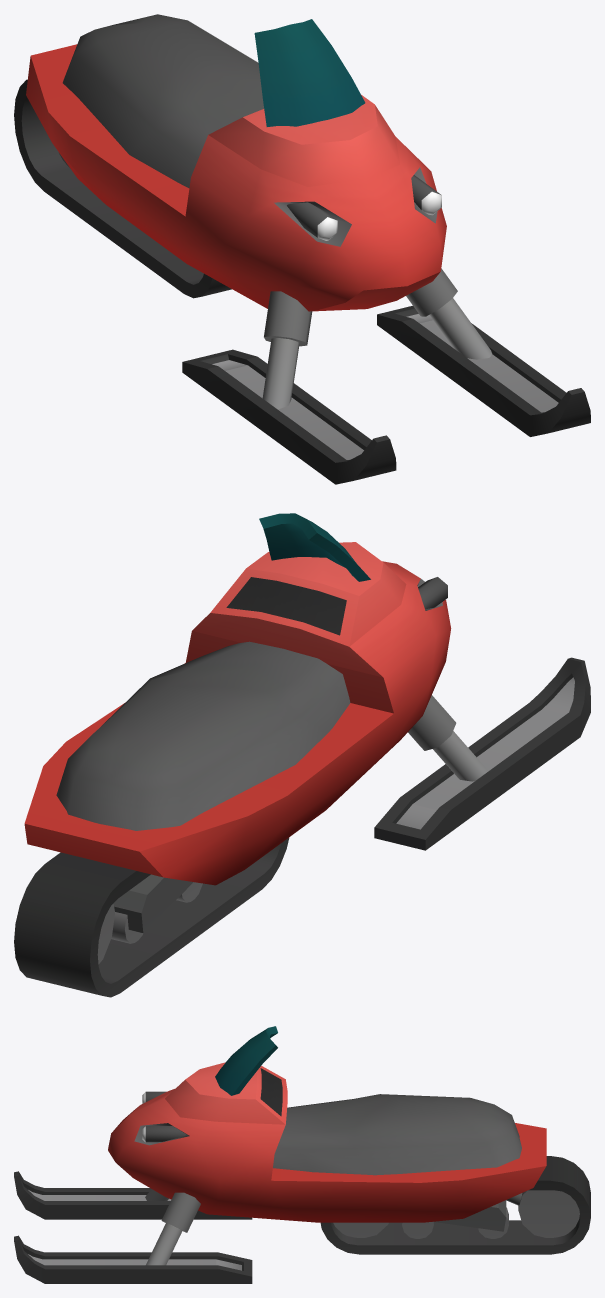
Rendered from snowmobile_002.fbx.
3 renders of one model, top to bottom at view 1: azimuth 30°, elevation 25°; view 2: azimuth 150°, elevation 25°; view 3: azimuth 270°, elevation 25°, orthographic. The views are drawn at different scales.
Parts seen in each view (by area): view 1: snowmobile_002; view 2: snowmobile_002; view 3: snowmobile_002.
Part boxes in pixels (box(x1,y1,x2,y2)): snowmobile_002: box(14, 14, 590, 484); snowmobile_002: box(14, 513, 590, 997); snowmobile_002: box(14, 1026, 590, 1283).
Bounding box in the file's own units: 125 × 375 × 152.
